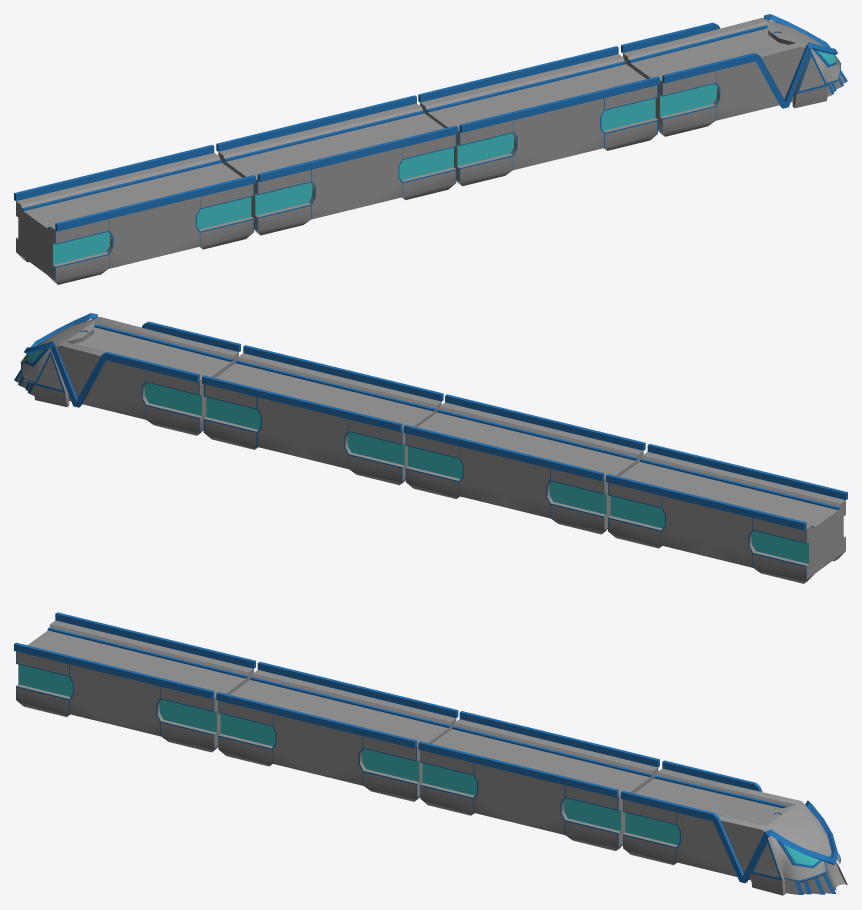
The model's file is train.fbx.
3 views of the same model, one above another, from view 1: azimuth 30°, elevation 25°; view 2: azimuth 150°, elevation 25°; view 3: azimuth 330°, elevation 25° (orthographic).
Parts seen in each view (by area): view 1: train; view 2: train; view 3: train.
Part boxes in pixels (x1,y1,x2,y2): train: (14, 14, 847, 284); train: (14, 313, 847, 583); train: (14, 612, 847, 895).
Size of the model in its own units: 94.03 by 7.2 by 9.32.
